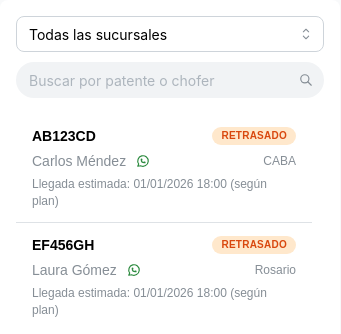
MapListadoViajes › filtra por patente o chofer con el buscador
Type "laura" into the field with placeholder "Buscar por patente o chofer".
click(170, 80); type("laura")  # box [16,62,324,98]
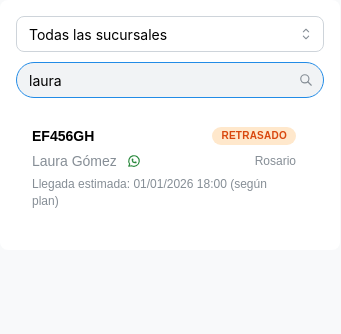
Expected: the text "EF456GH" is shown, [32,126,94,146]
Now the text "AB123CD" is gone
